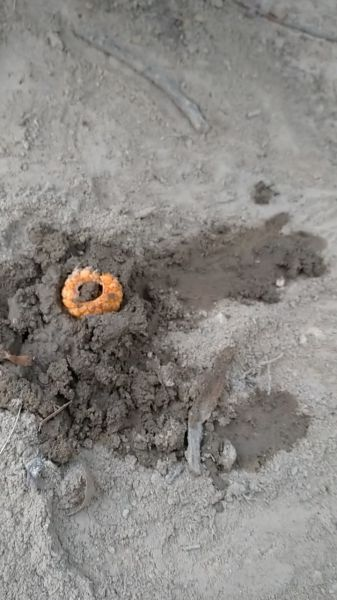eggs: (57, 263, 124, 322)
